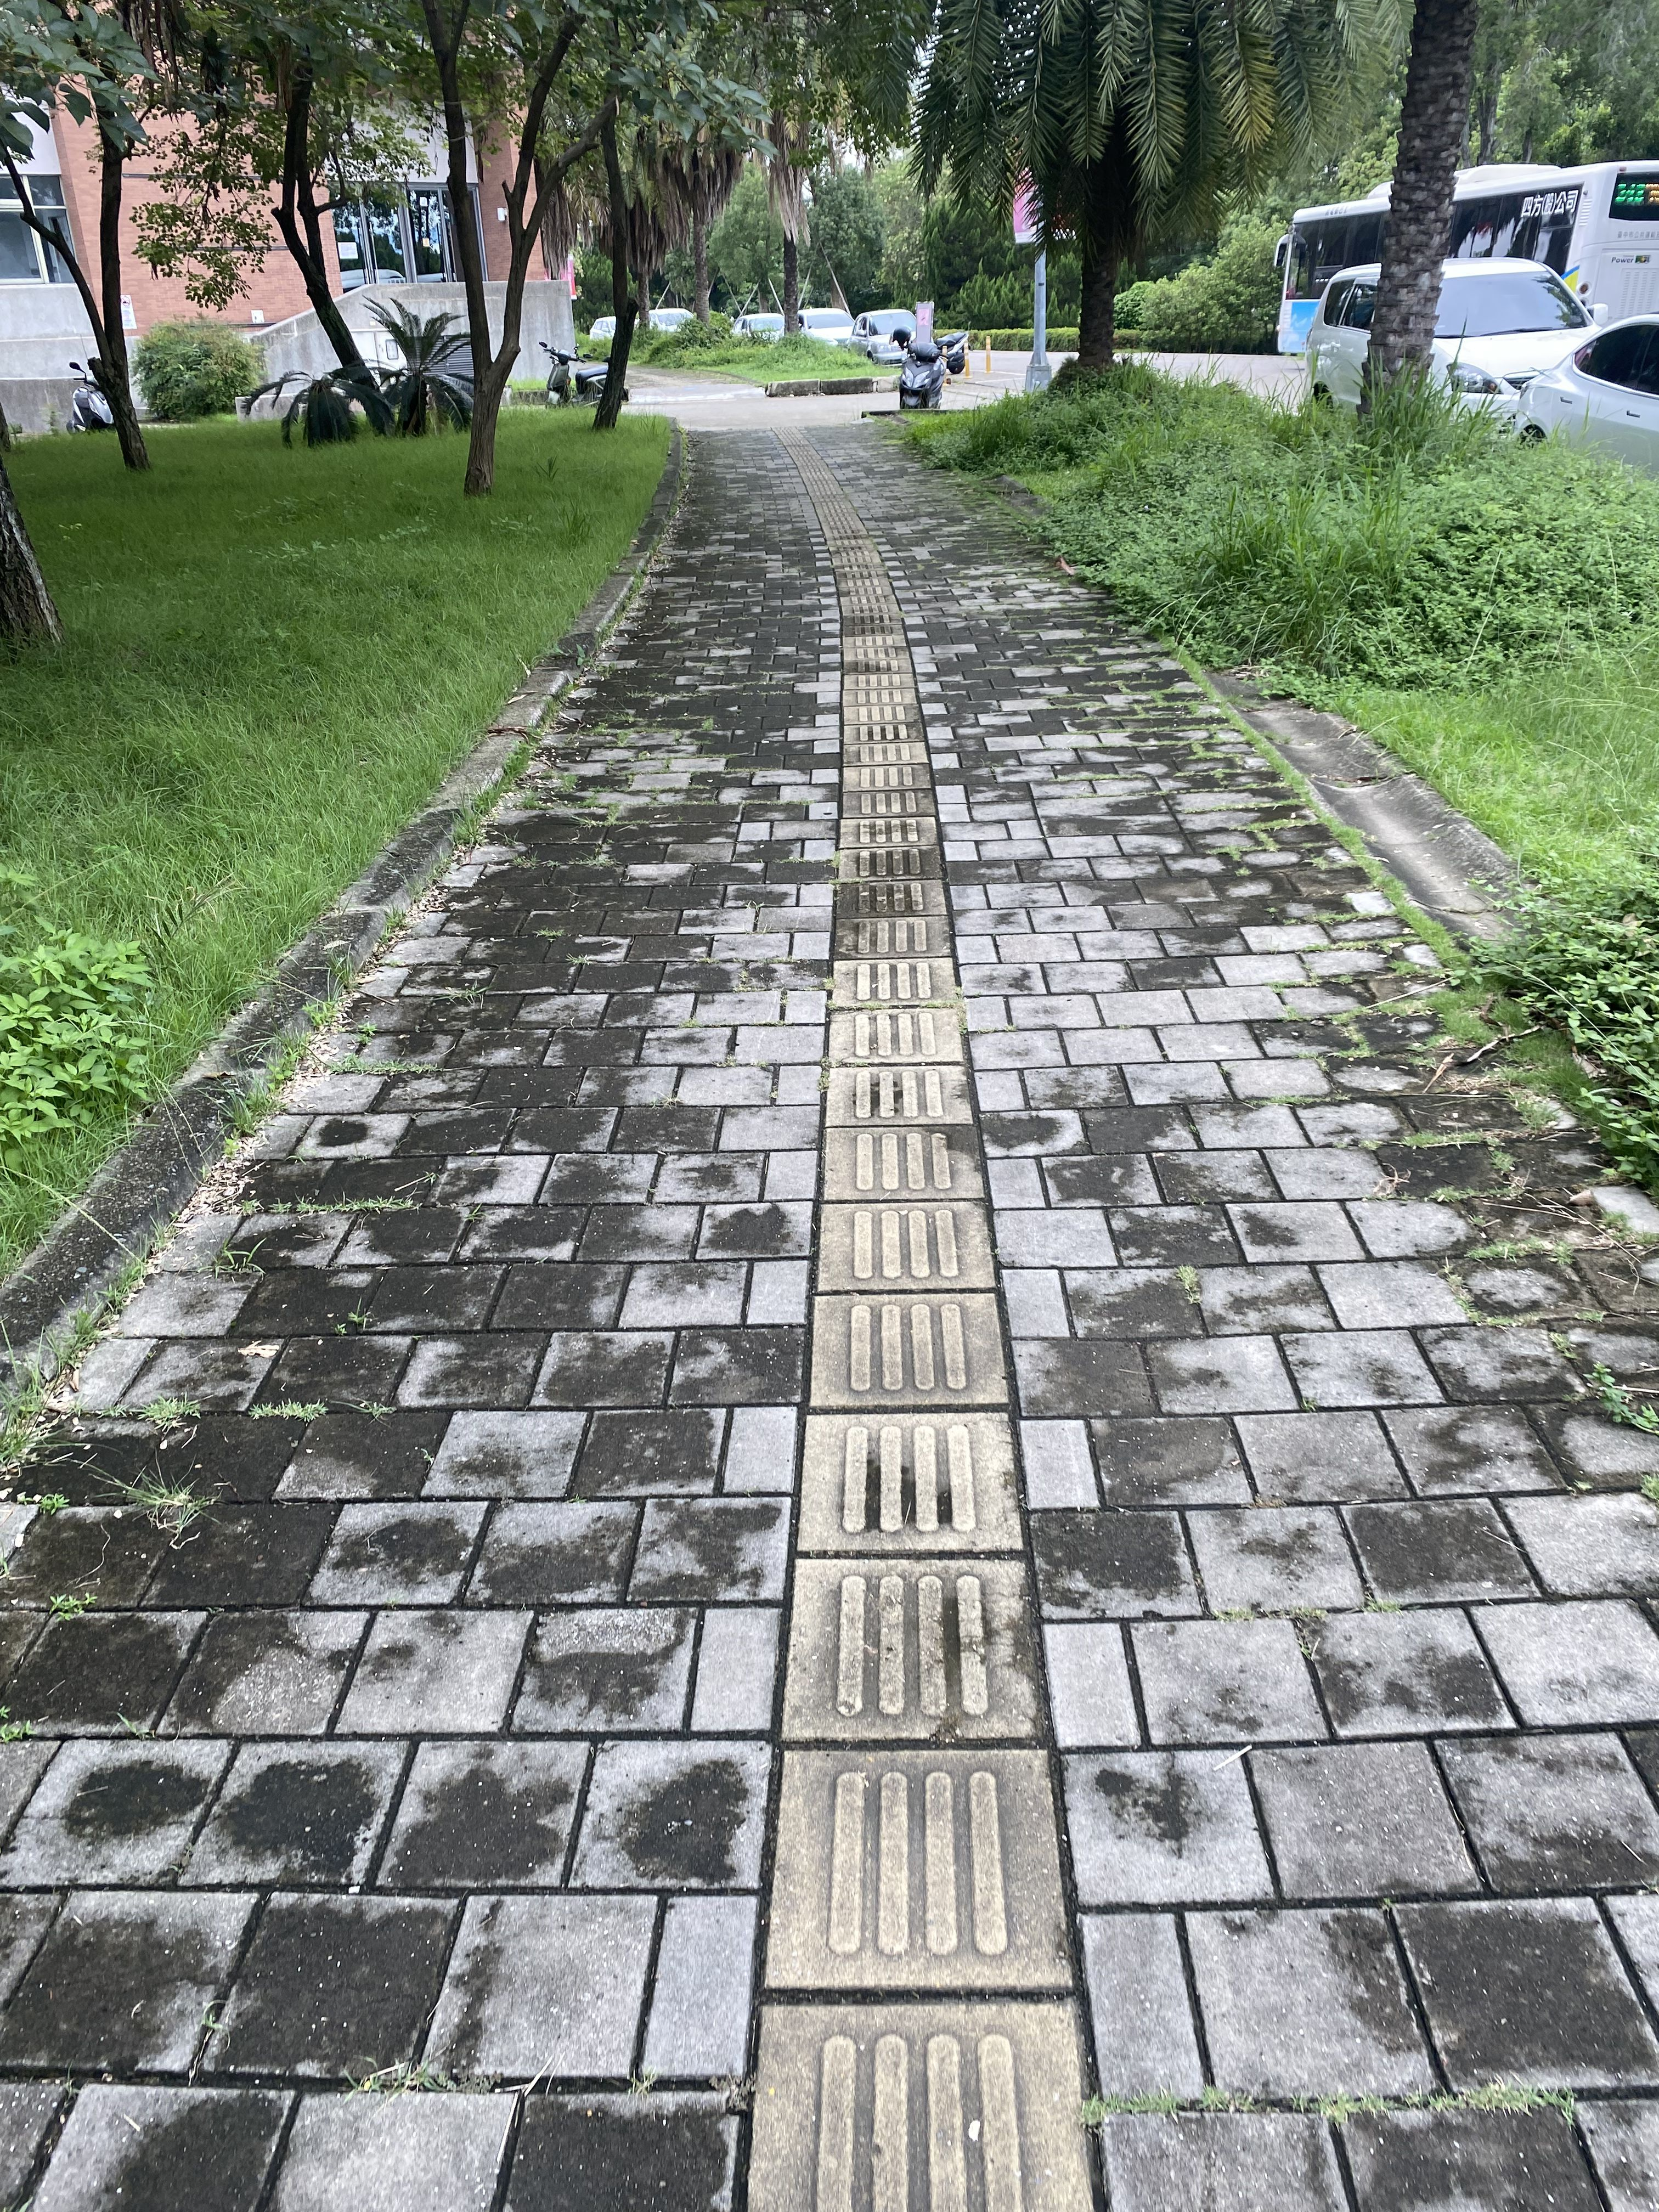sidewalk: (0, 371, 1659, 2212)
